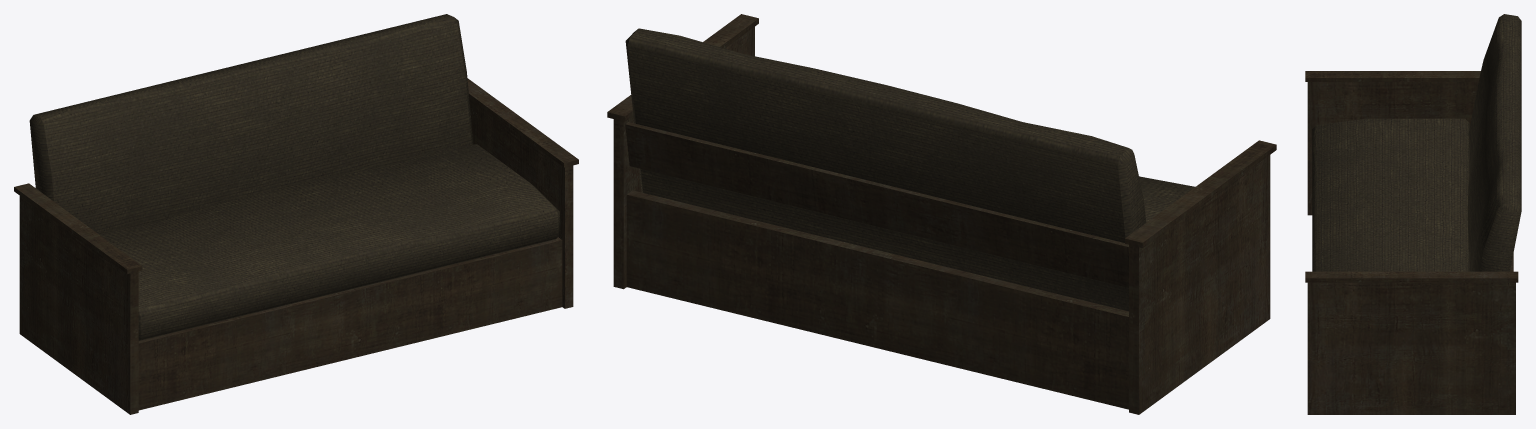
File: sofa_3_1.obj
The picture shows the model from 3 angles, left to right: view 1: azimuth 30°, elevation 25°; view 2: azimuth 150°, elevation 25°; view 3: azimuth 270°, elevation 25°; orthographic projection. The views are drawn at different scales.
Visible parts, largest first — view 1: sofa_3_1; view 2: sofa_3_1; view 3: sofa_3_1.
Part boxes in pixels (box(x1,y1,x2,y2)): sofa_3_1: box(14, 14, 578, 414); sofa_3_1: box(607, 14, 1276, 414); sofa_3_1: box(1305, 14, 1521, 414).
Bounding box in the file's own units: 2.12 × 0.977 × 0.9346.
